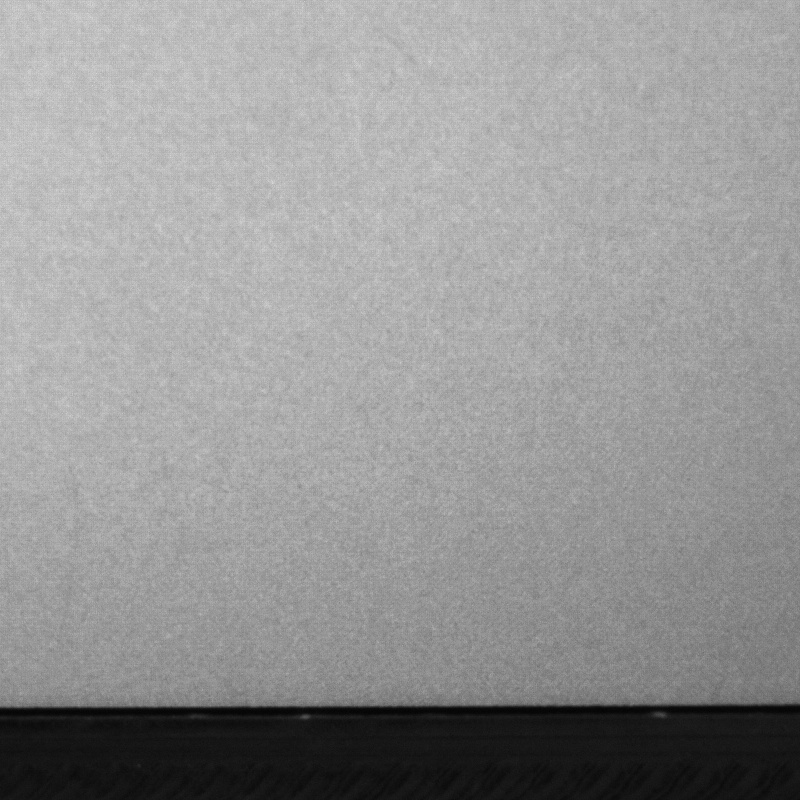defect: (373, 28, 424, 70)
